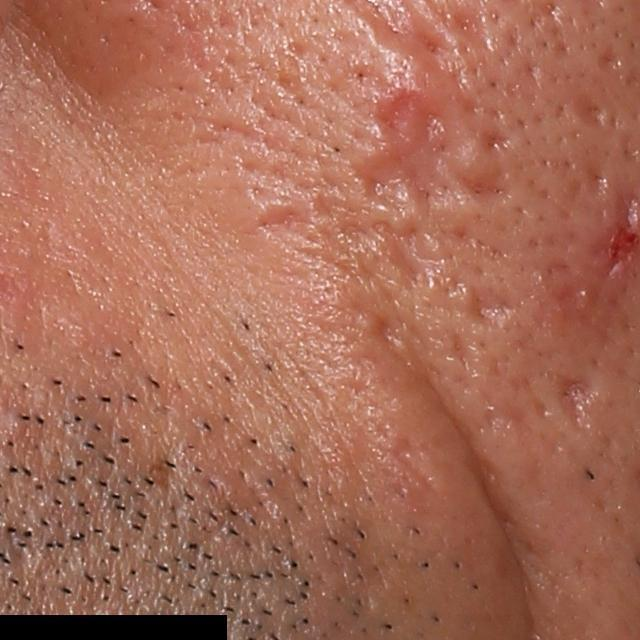atrophic_scar: (356, 94, 502, 200), (549, 279, 610, 350), (372, 219, 429, 292), (464, 284, 517, 329), (261, 208, 323, 243), (473, 119, 524, 161), (558, 375, 603, 420), (571, 99, 612, 135)
